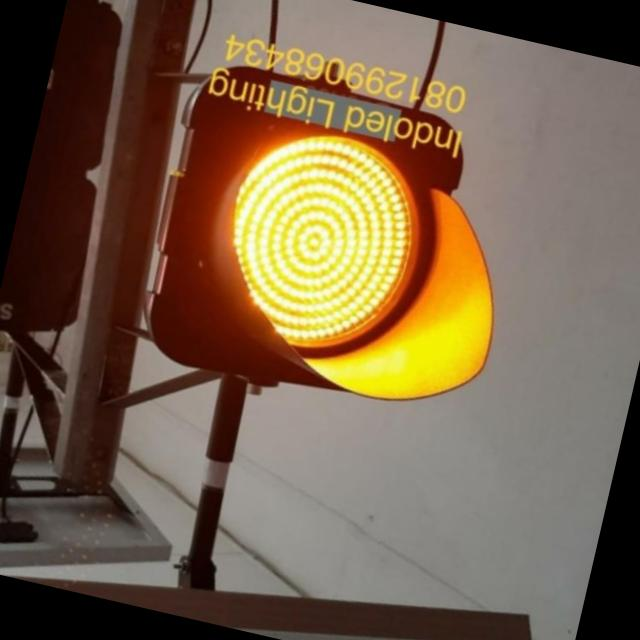yellow-lights: (203, 115, 436, 366)
